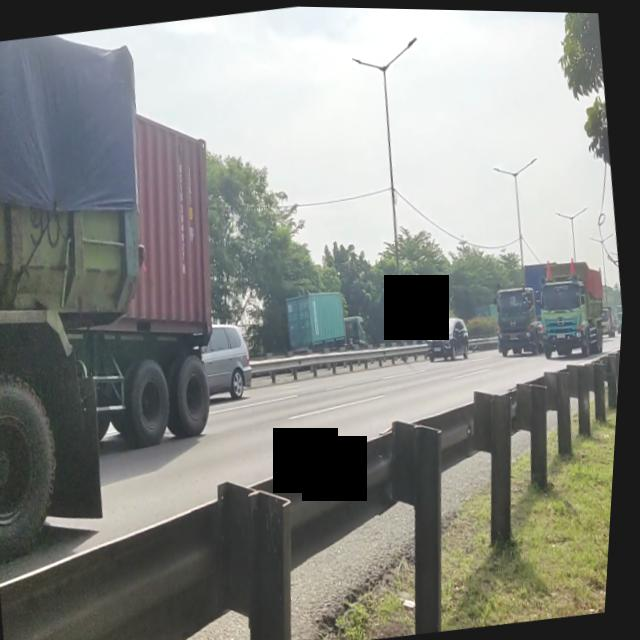Golongan I: (426, 308, 480, 371)
